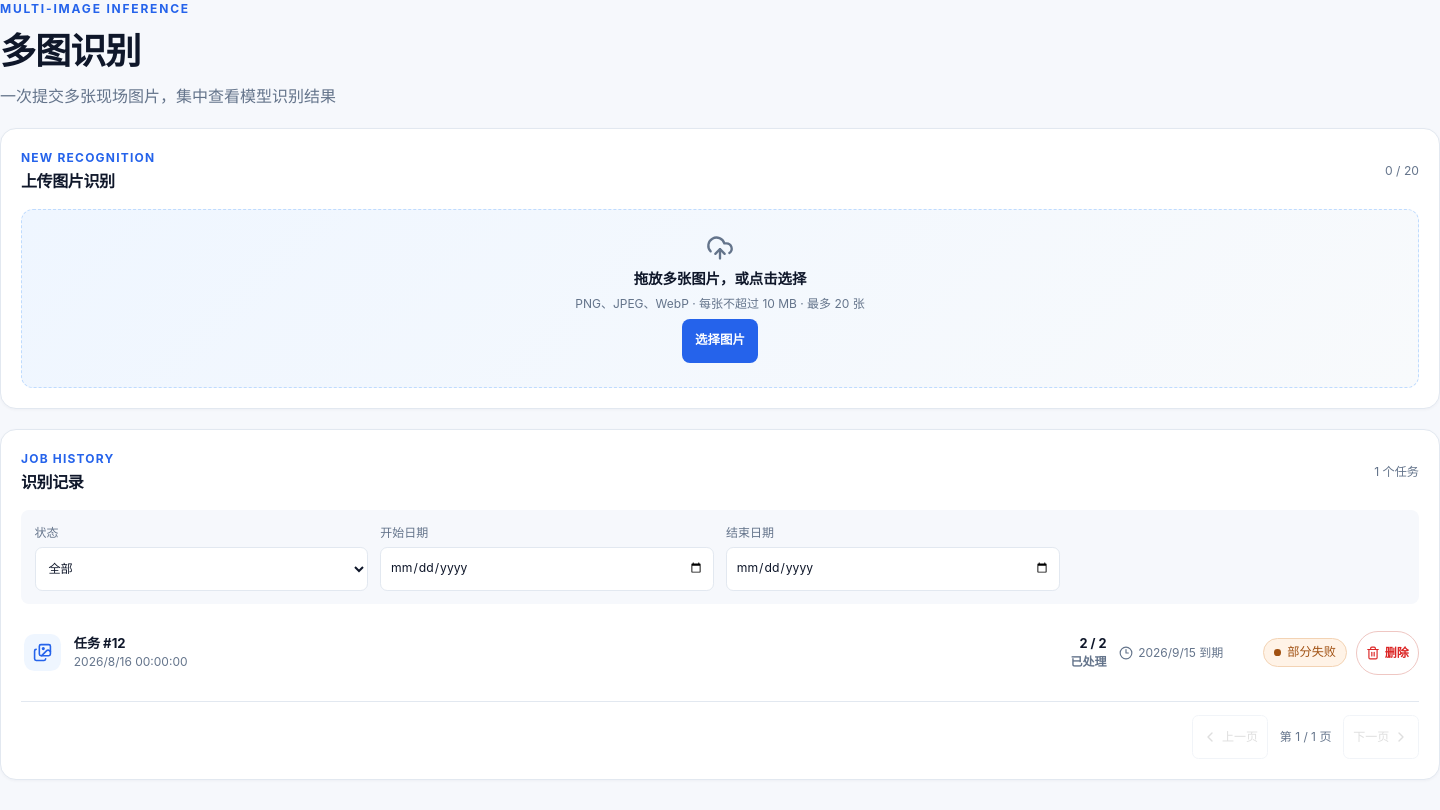
Test case: confirms and deletes a terminal recognition task
expect the text "部分失败" is shown: met, box [1263,638,1347,668]
Click the button with aria-label "删除识别任务 #12" at (1387, 653), box [1356,631,1419,675]
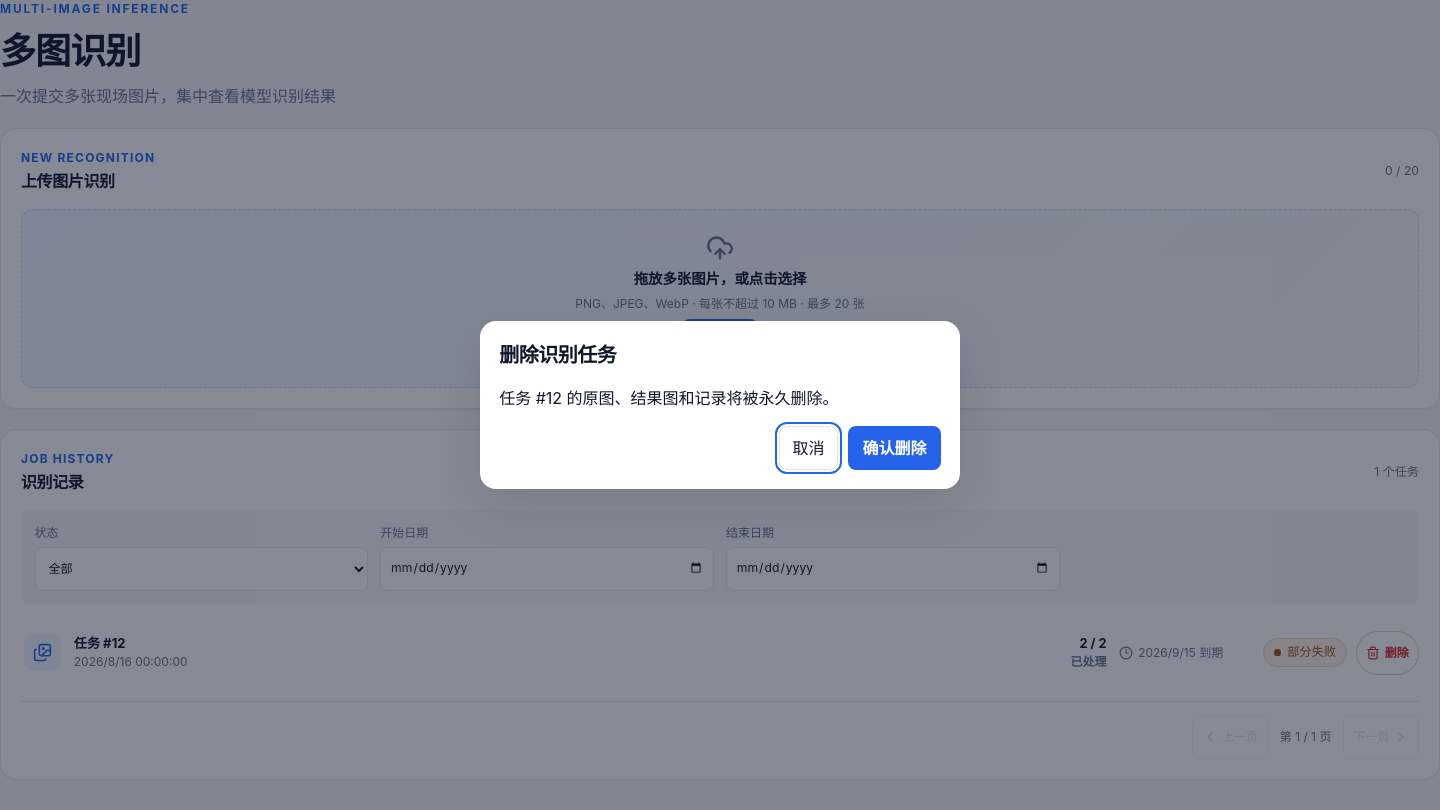
Click the button "确认删除" at (894, 448), box [848,426,941,470]
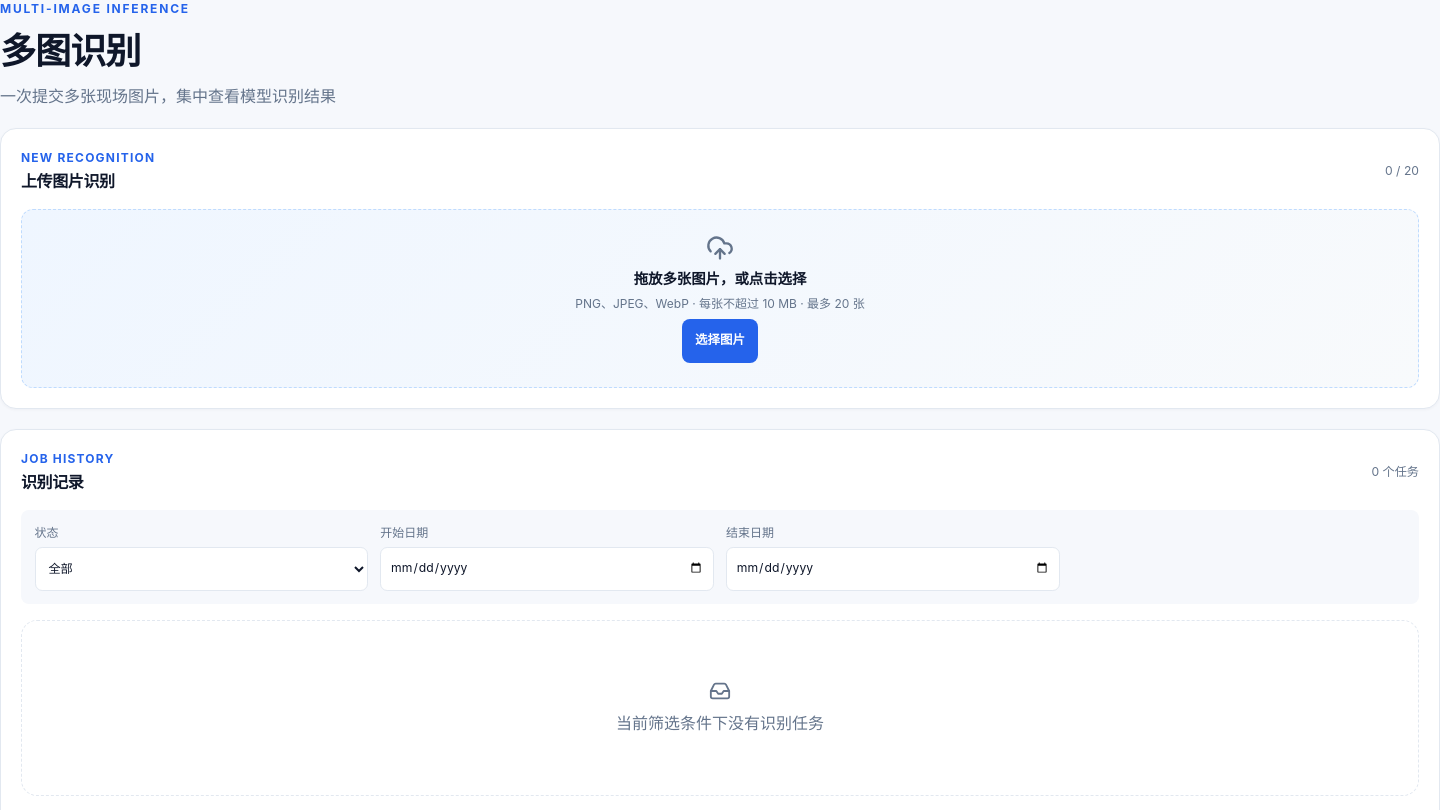
expect the text "当前筛选条件下没有识别任务" is shown: met, box [616,711,824,737]
